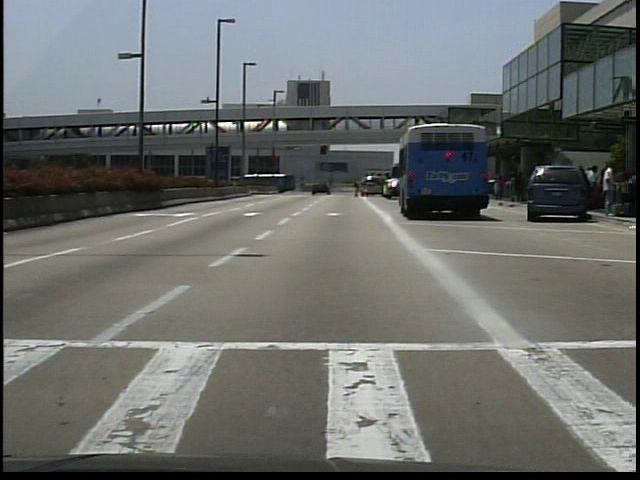person: (598, 162, 619, 218), (597, 165, 612, 211), (515, 168, 528, 204), (587, 165, 601, 182), (316, 182, 326, 198)
